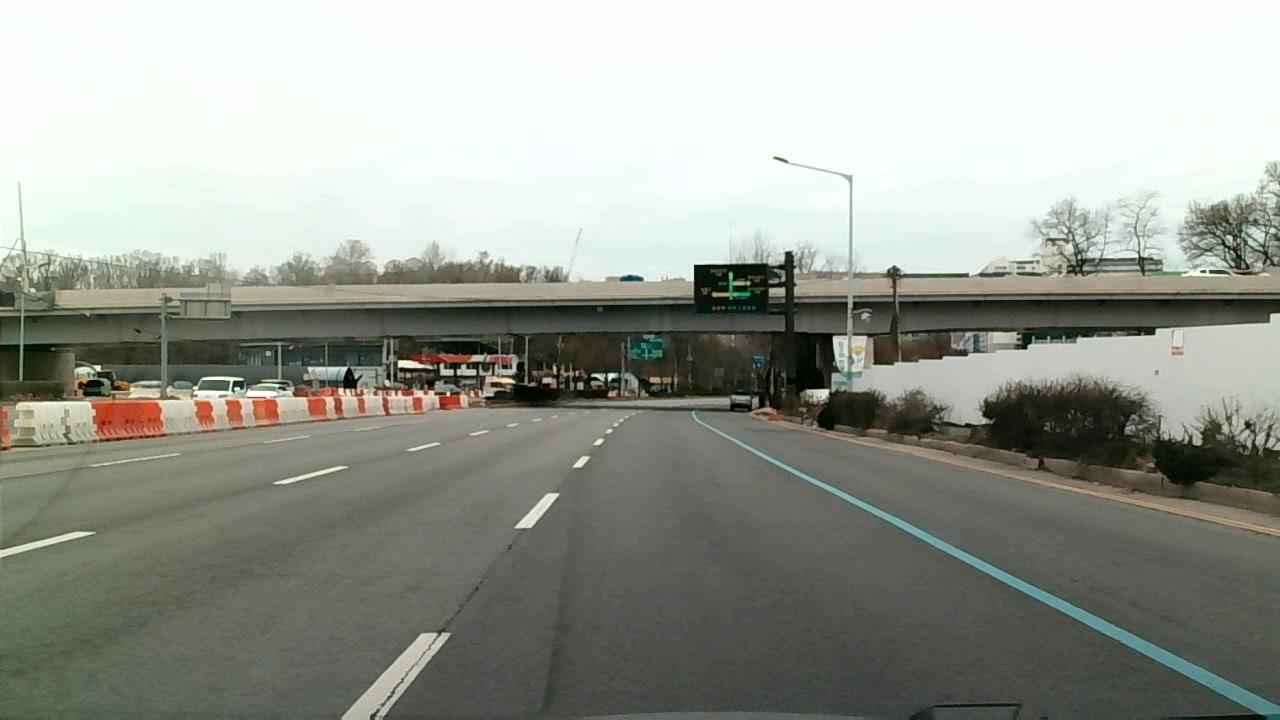vcrack: (359, 631, 438, 720), (441, 545, 512, 623)
